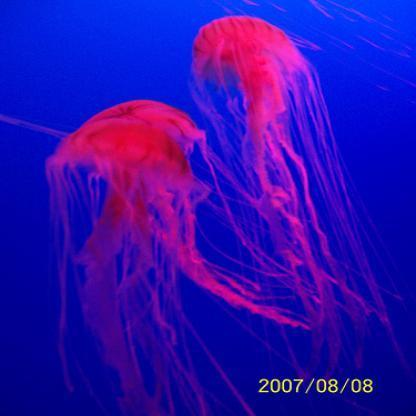Moon: (50, 101, 254, 385), (190, 16, 338, 296)
